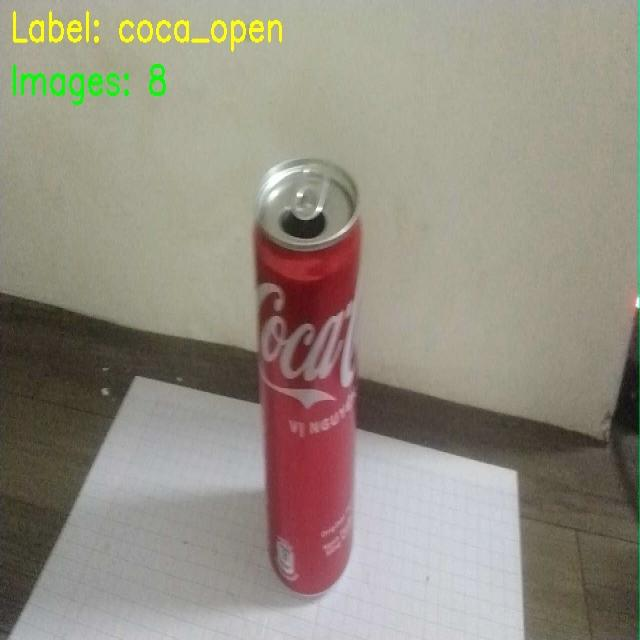Coca_open: (244, 148, 384, 610)
